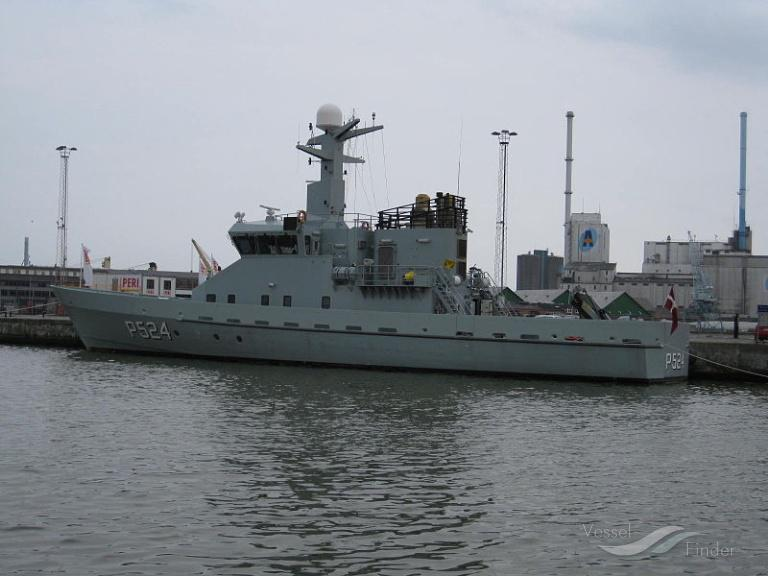OCR: (126, 315, 174, 342)
